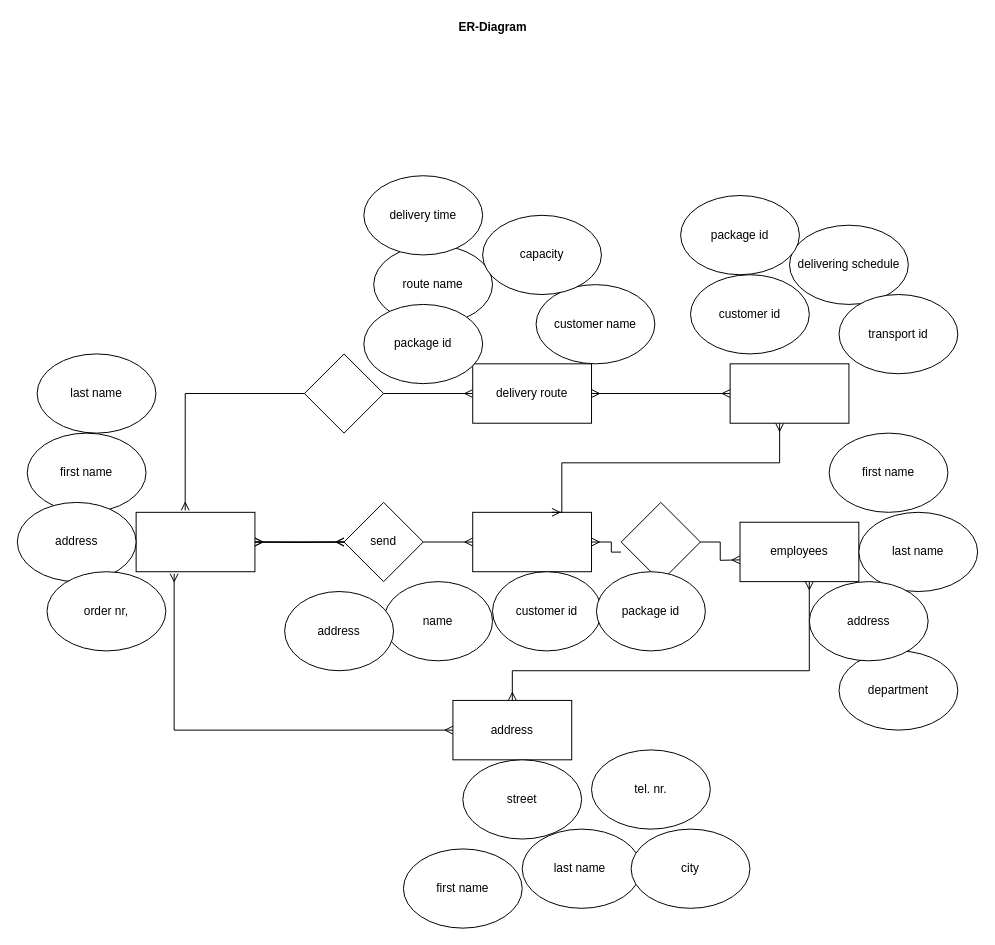
This 995x945 diagram has some shape labels left out. The box of each missing label's shape, as (x1, y1, x2, y2) in pixels:
customer: (135, 511, 255, 572)
deliver: (303, 353, 384, 433)
mail station: (472, 511, 592, 572)
packaging: (729, 363, 849, 423)
work: (620, 501, 700, 582)
